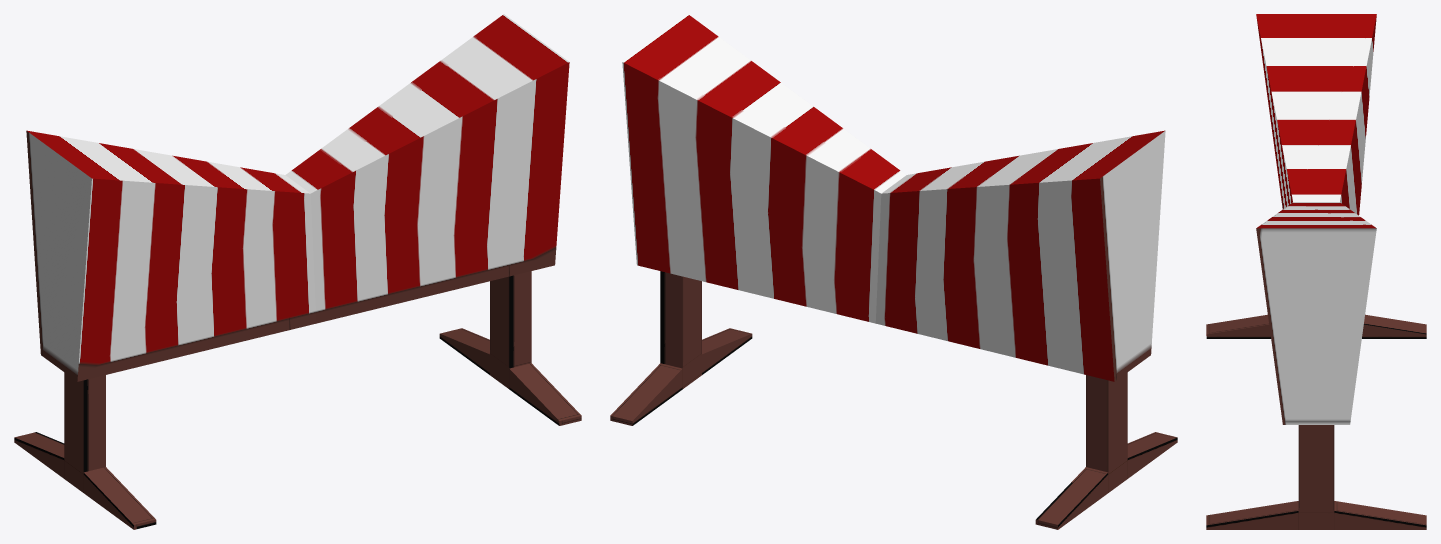
The model's file is obs_001.fbx.
3 renders of one model, left to right at view 1: azimuth 30°, elevation 25°; view 2: azimuth 150°, elevation 25°; view 3: azimuth 270°, elevation 25°, orthographic. The views are drawn at different scales.
Parts seen in each view (by area): view 1: obstacle.001; view 2: obstacle.001; view 3: obstacle.001.
Boxes of the visible parts, left/top/right/bottom form: obstacle.001: left=14, top=14, right=581, bottom=529; obstacle.001: left=610, top=14, right=1177, bottom=529; obstacle.001: left=1206, top=14, right=1426, bottom=529.
Bounding box in the file's own units: 1.78 × 0.7735 × 1.2.
